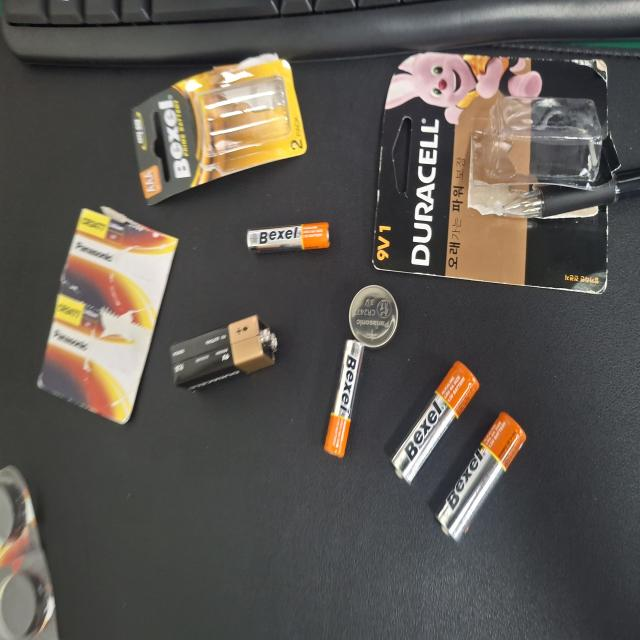9V: (236, 483, 292, 627)
AA: (309, 152, 405, 269), (271, 215, 363, 331)
AAA: (254, 369, 343, 421), (167, 413, 189, 525)
COIN: (214, 323, 261, 387)
